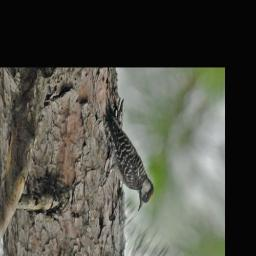Woodpecker: (103, 103, 154, 216)
